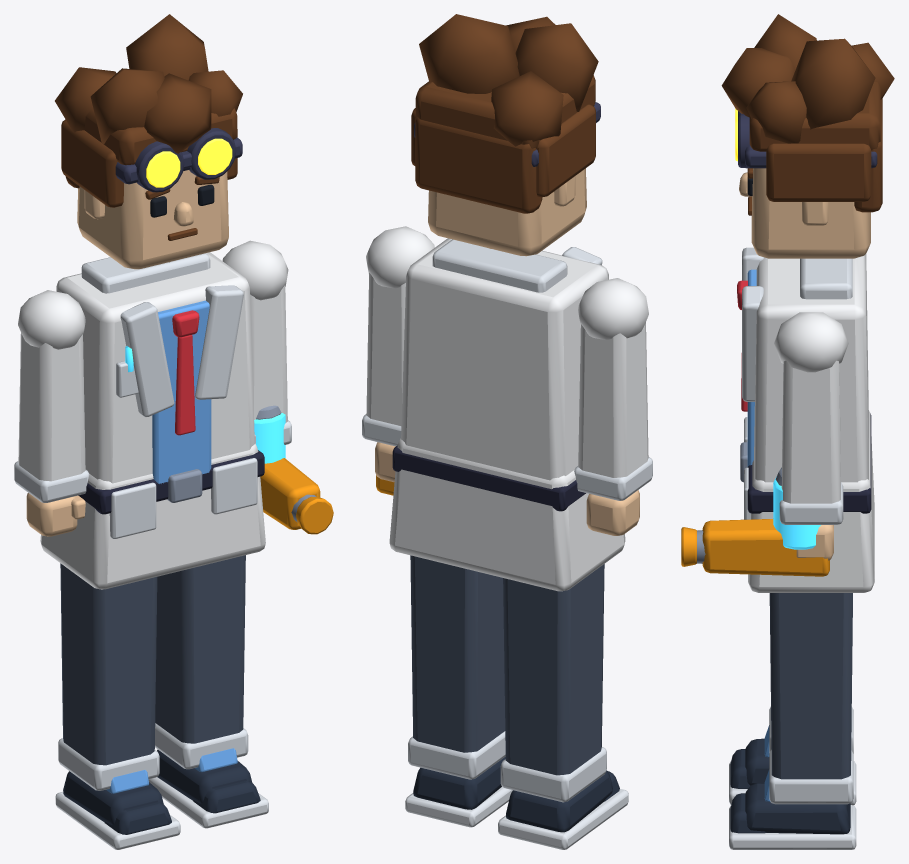
File: professor.glb
The picture shows the model from 3 angles, left to right: view 1: azimuth 30°, elevation 25°; view 2: azimuth 150°, elevation 25°; view 3: azimuth 270°, elevation 25°; orthographic projection. The views are drawn at different scales.
Visible parts, largest first — view 1: CoatChest, LegL_Trouser, LegR_Trouser, CoatSkirt, HeadCranium, ArmL_Sleeve, ShirtFront, ArmR_Sleeve, CoatLapel_-1.0, CoatLapel_1.0, Tuft_2, Tuft_0 (+34 smaller); view 2: CoatChest, CoatSkirt, LegL_Trouser, LegR_Trouser, ArmL_Sleeve, HairBack, HeadCranium, Tuft_1, ArmR_Sleeve, Tuft_0, CoatCollarBack, Tuft_4 (+16 smaller); view 3: LegR_Trouser, CoatChest, ArmR_Sleeve, HeadCranium, HairSide_1.0, CoatSkirt, Tuft_1, BlasterBody, ArmR_Shoulder, LegR_ShoeUpper, HairCrown, Tuft_3 (+21 smaller).
Boxes of the visible parts, x1,y1,x2,y2 form: CoatChest: (56,252,254,483); LegL_Trouser: (60,563,157,765); LegR_Trouser: (155,555,245,743); CoatSkirt: (40,443,265,589); HeadCranium: (77,170,228,269); ArmL_Sleeve: (18,333,85,481); ShirtFront: (152,300,211,483); ArmR_Sleeve: (250,285,287,422); CoatLapel_-1.0: (120,302,174,416); CoatLapel_1.0: (195,285,243,399); Tuft_2: (144,73,211,153); Tuft_0: (90,68,164,143); CoatChest: (401,238,608,480); CoatSkirt: (389,438,625,591); LegL_Trouser: (503,564,604,775); LegR_Trouser: (410,555,505,752); ArmL_Sleeve: (578,322,648,477); HairBack: (415,117,542,213); HeadCranium: (428,168,586,256); Tuft_1: (419,14,519,93); ArmR_Sleeve: (366,272,405,425); Tuft_0: (515,23,598,111); CoatCollarBack: (432,239,567,292); Tuft_4: (491,71,563,146); LegR_Trouser: (769,593,852,779); CoatChest: (754,254,868,482); ArmR_Sleeve: (781,360,840,503); HeadCranium: (751,168,870,258); HairSide_1.0: (766,143,871,201); CoatSkirt: (748,411,874,592); Tuft_1: (791,38,875,129); BlasterBody: (702,519,829,576); ArmR_Shoulder: (774,312,848,372); LegR_ShoeUpper: (745,783,850,834); HairCrown: (749,82,880,151); Tuft_3: (746,81,806,143).
Size of the model in its own units: 0.8207 by 2.33 by 0.5701.
